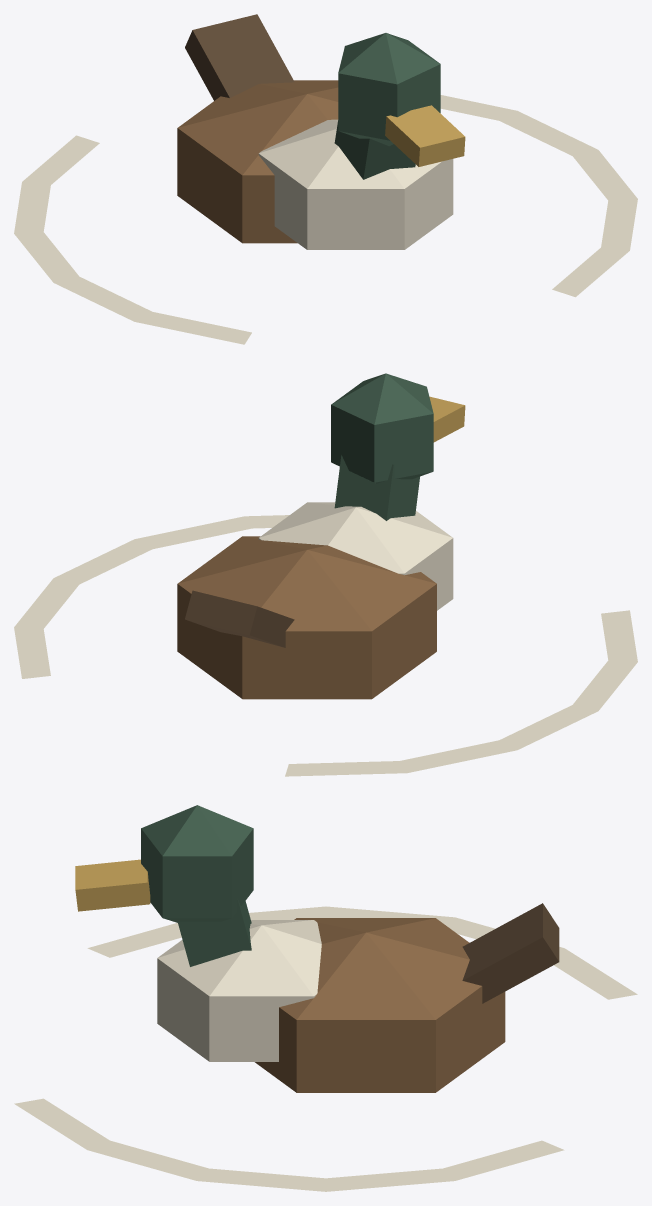
File: animal-duck.glb
3 views of the same model, one above another, from view 1: azimuth 30°, elevation 25°; view 2: azimuth 150°, elevation 25°; view 3: azimuth 270°, elevation 25° (orthographic). The views are drawn at different scales.
Parts seen in each view (by area): view 1: animal-duck; view 2: animal-duck; view 3: animal-duck.
Part boxes in pixels (x1,y1,x2,y2): animal-duck: (14,14,637,344); animal-duck: (14,373,637,776); animal-duck: (14,805,637,1191).
Bounding box in the file's own units: 0.84 × 0.375 × 0.7761.
Materials: 1 (1 with a texture image).
